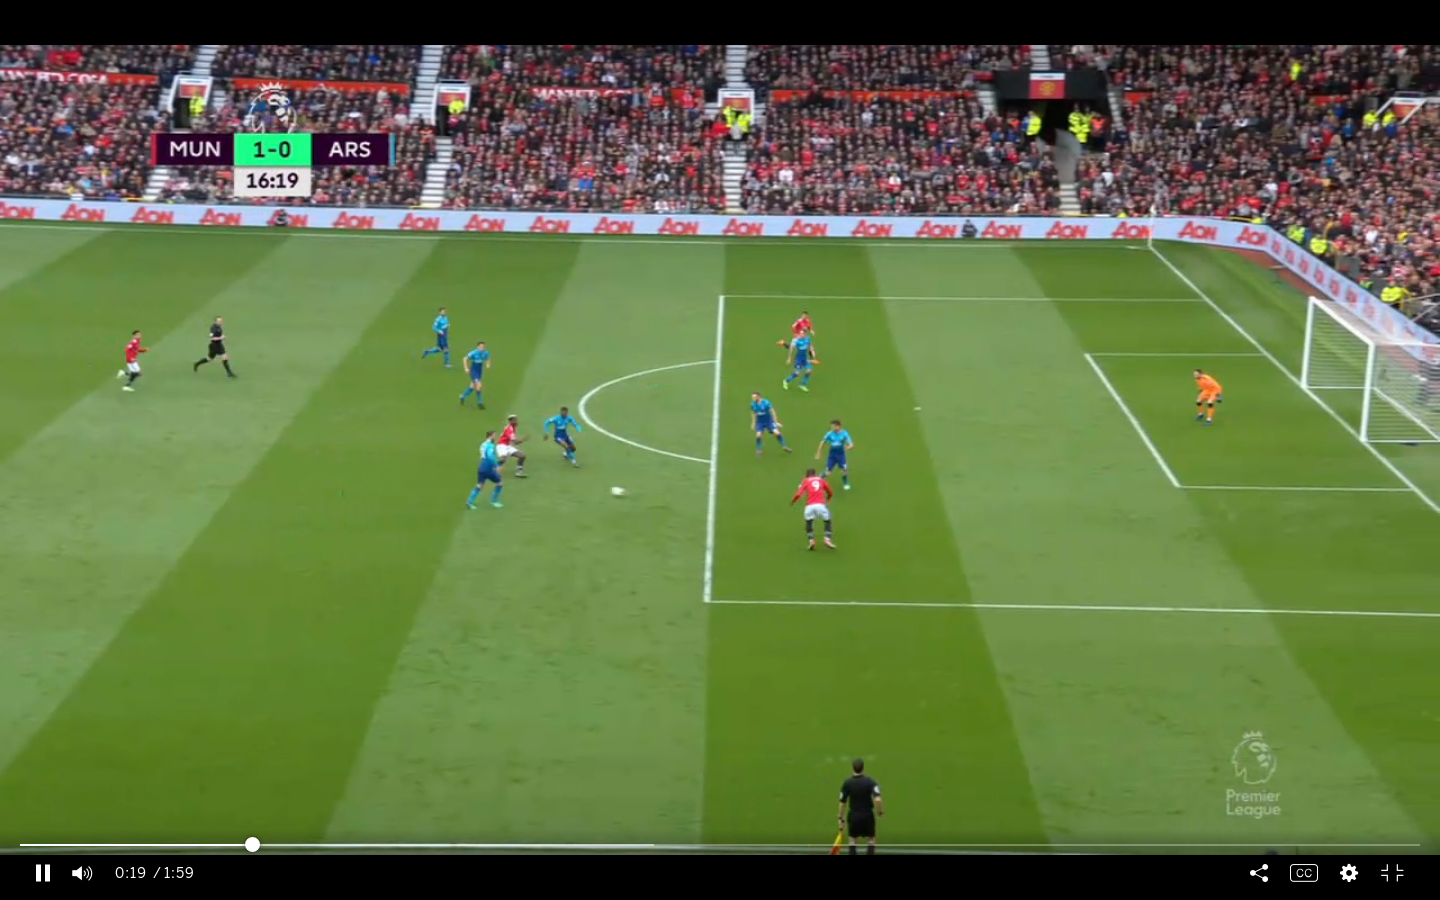referee: (835, 759, 887, 852), (195, 312, 235, 380)
soccer player: (788, 468, 839, 552), (745, 391, 795, 459), (813, 419, 856, 492), (112, 325, 155, 394), (495, 412, 538, 479), (470, 432, 507, 509), (1187, 360, 1228, 426), (458, 339, 495, 412), (421, 306, 455, 371), (785, 332, 818, 386), (784, 311, 816, 339)
soccerball: (607, 480, 627, 500)
